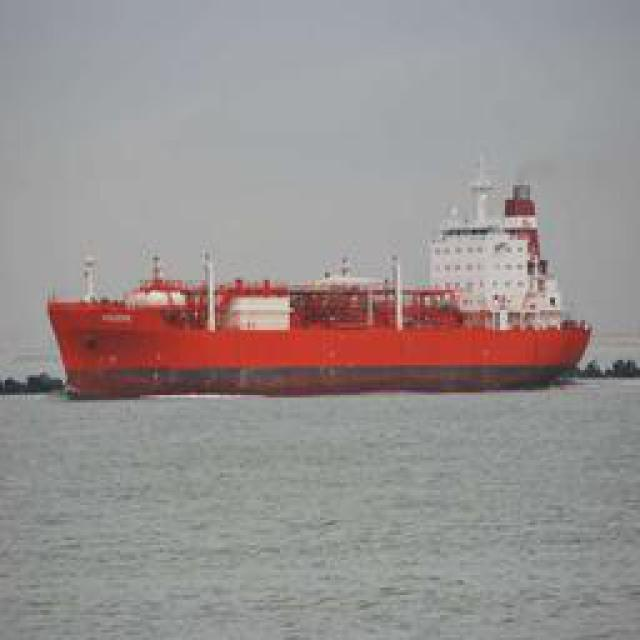Ship: (41, 242, 599, 392)
